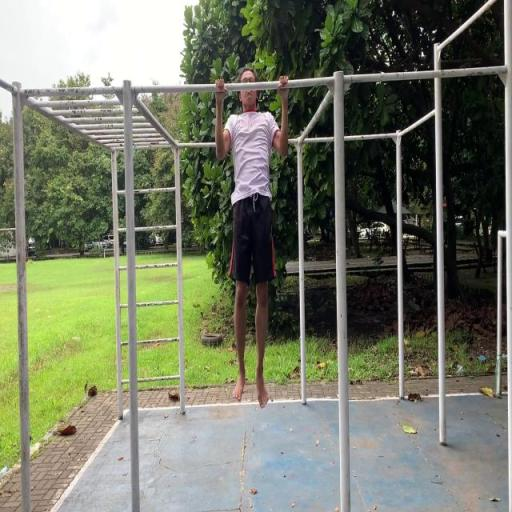Normal_BrenchPress: (213, 70, 289, 408)
